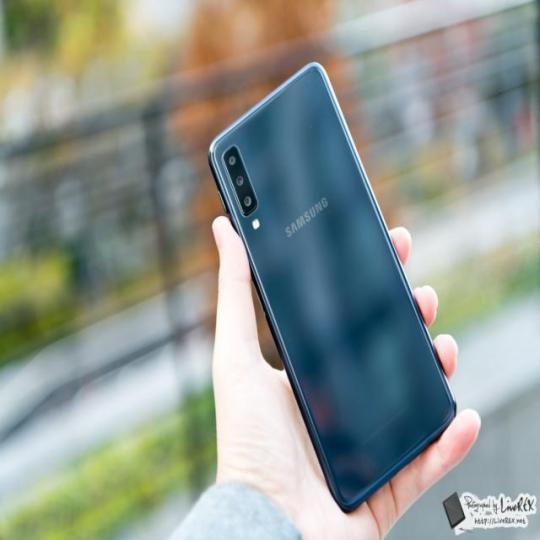phone: (170, 44, 458, 514)
